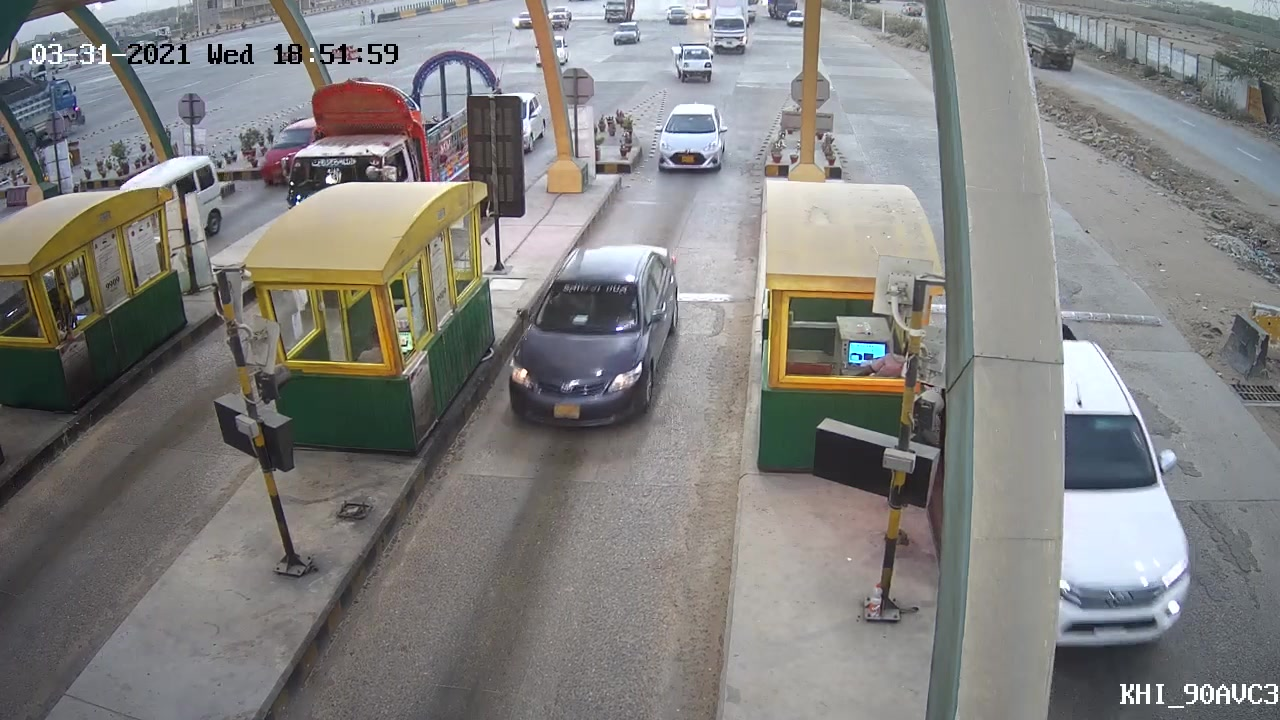F1: (507, 243, 683, 429)
